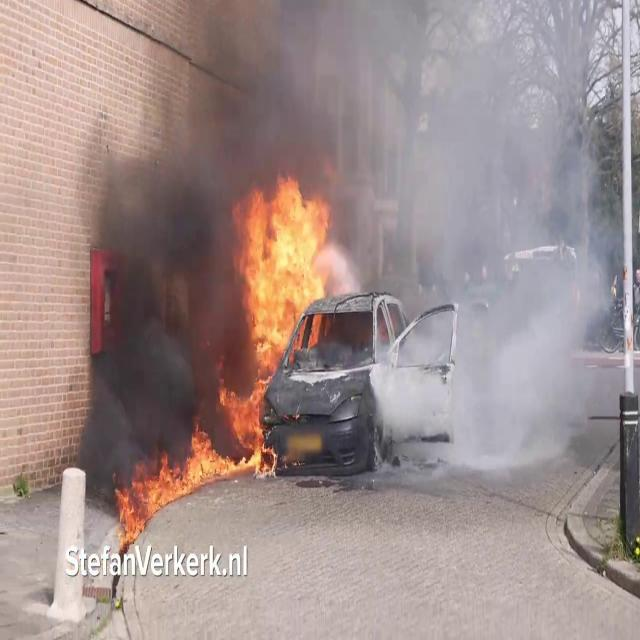Fire: (225, 170, 343, 460), (115, 421, 249, 534)
Smoke: (350, 1, 614, 484), (75, 2, 262, 459)
